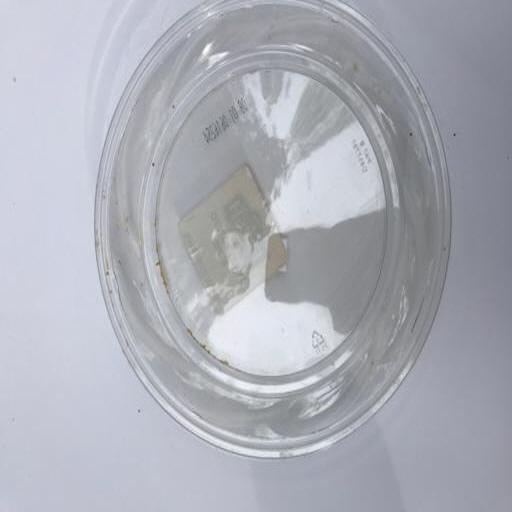Plastic_5: (93, 1, 452, 459)
